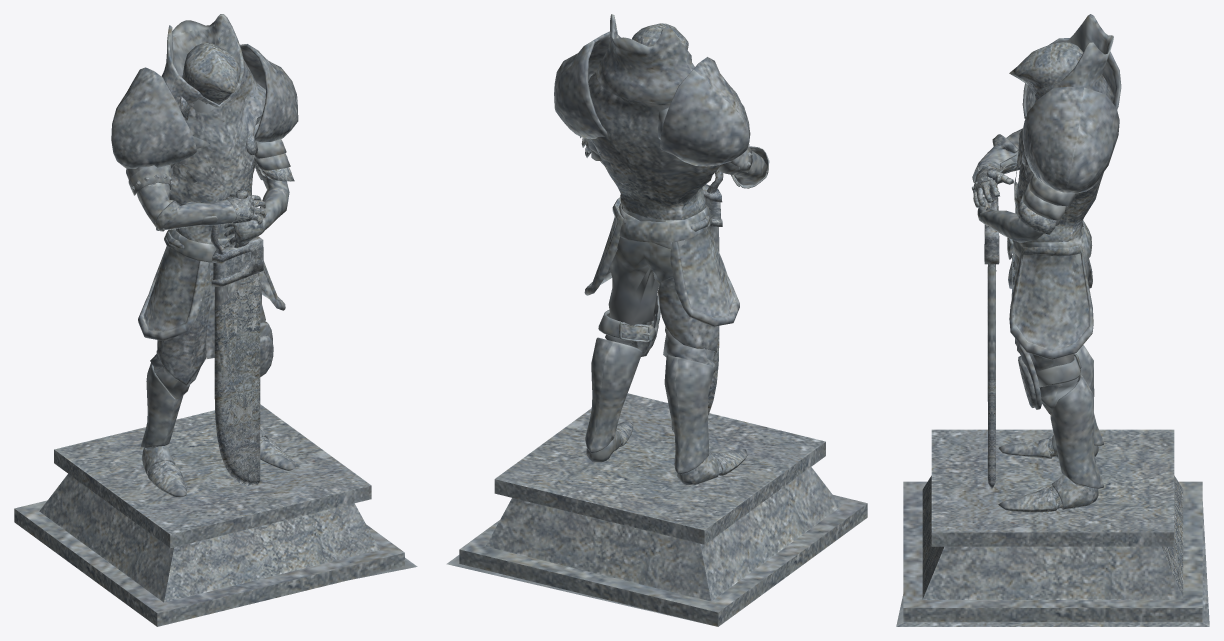
File: statue.FBX
The picture shows the model from 3 angles, left to right: view 1: azimuth 30°, elevation 25°; view 2: azimuth 150°, elevation 25°; view 3: azimuth 270°, elevation 25°; orthographic projection. The views are drawn at different scales.
Visible parts, largest first — view 1: statue; view 2: statue; view 3: statue.
Boxes of the visible parts, box(x1,y1,x2,y2) form: statue: box(14, 14, 417, 626); statue: box(446, 14, 867, 626); statue: box(896, 14, 1209, 626).
Size of the model in its own units: 356 by 360 by 676.
